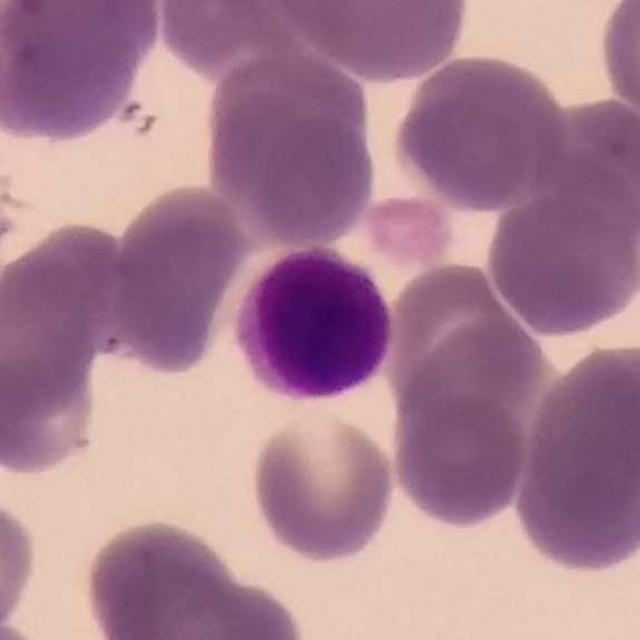Lymphocyte: (226, 239, 402, 413)
RBC: (511, 336, 640, 578), (0, 216, 120, 476), (389, 49, 570, 213), (105, 178, 249, 376), (199, 47, 375, 201), (482, 172, 640, 340), (246, 406, 401, 568), (78, 513, 273, 640), (208, 107, 383, 247), (0, 0, 166, 147), (385, 298, 548, 432), (387, 387, 532, 532), (273, 0, 474, 82), (542, 94, 640, 234), (152, 0, 305, 80), (142, 571, 310, 639), (356, 192, 458, 270), (0, 482, 42, 636), (594, 0, 640, 129), (0, 615, 65, 640)
